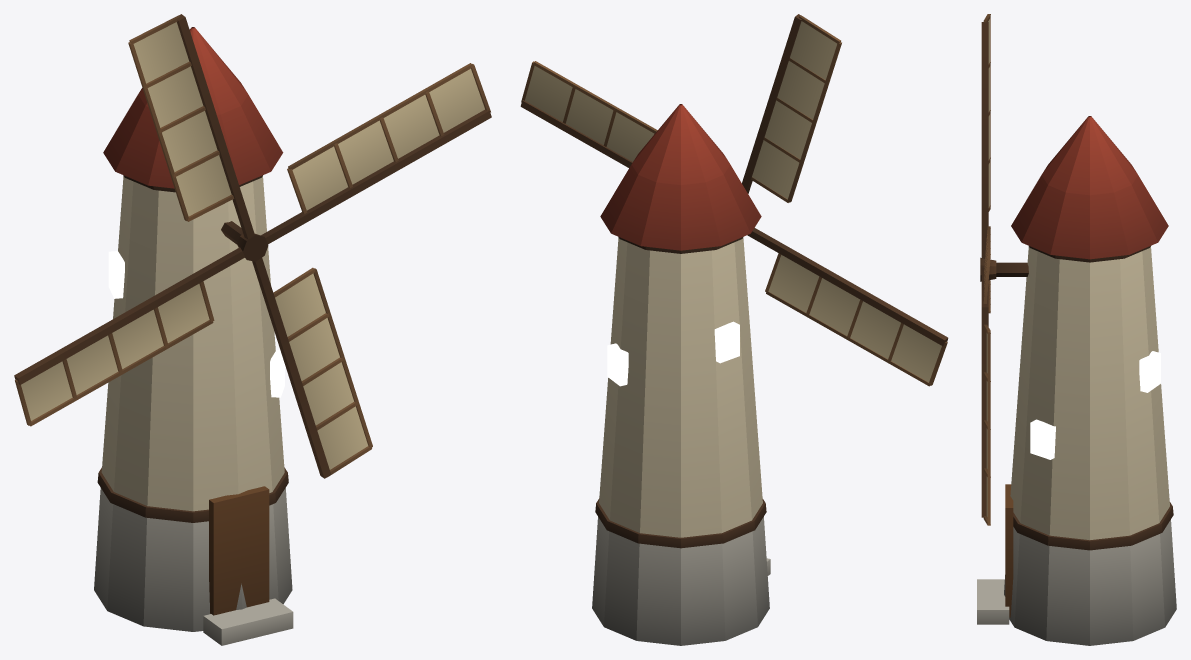
File: b_windmill.glb
3 views of the same model, side by side, from view 1: azimuth 30°, elevation 25°; view 2: azimuth 150°, elevation 25°; view 3: azimuth 270°, elevation 25° (orthographic). The views are drawn at different scales.
Parts seen in each view (by area): view 1: plaster, spin_cloth, spin_wood, stone, wood, roof, glow; view 2: plaster, spin_cloth, stone, roof, spin_wood, wood, glow; view 3: plaster, stone, roof, spin_wood, wood, glow, spin_cloth.
Part boxes in pixels (left/top/right/bottom): plaster: left=101, top=176, right=284, bottom=511; spin_cloth: left=21, top=22, right=484, bottom=469; spin_wood: left=14, top=14, right=491, bottom=478; stone: left=94, top=488, right=293, bottom=645; wood: left=97, top=175, right=288, bottom=615; roof: left=103, top=27, right=283, bottom=188; glow: left=108, top=251, right=284, bottom=397; plaster: left=599, top=237, right=762, bottom=537; spin_cloth: left=525, top=21, right=941, bottom=382; stone: left=592, top=517, right=770, bottom=645; roof: left=600, top=104, right=761, bottom=250; spin_wood: left=520, top=14, right=948, bottom=386; wood: left=595, top=237, right=766, bottom=548; glow: left=607, top=321, right=739, bottom=386; plaster: left=1010, top=246, right=1169, bottom=540; stone: left=977, top=520, right=1176, bottom=645; roof: left=1011, top=116, right=1168, bottom=259; spin_wood: left=980, top=14, right=996, bottom=525; wood: left=996, top=246, right=1173, bottom=617; glow: left=1030, top=351, right=1160, bottom=459; spin_cloth: left=986, top=19, right=989, bottom=516.
Size of the model in its own units: 5.96 by 7.63 by 2.48.
